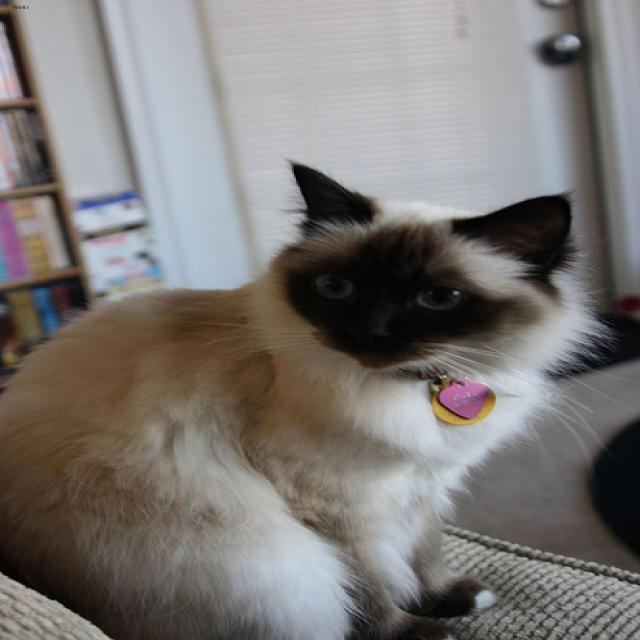Birman: (277, 161, 567, 369)
